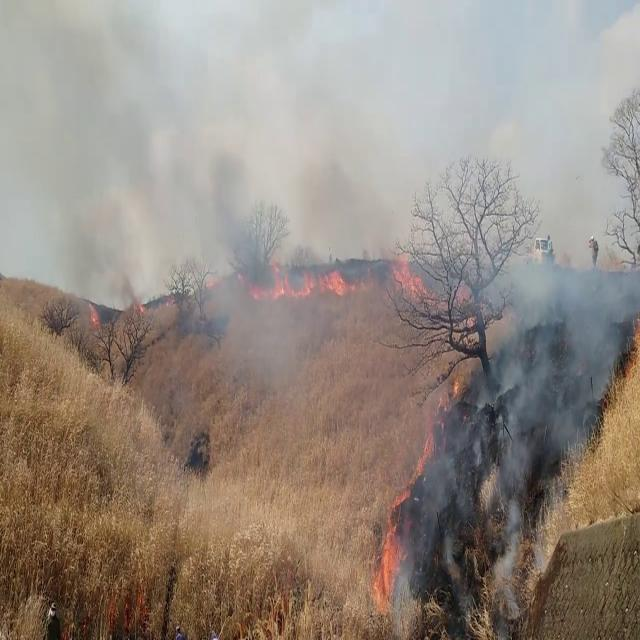Fire: (249, 256, 352, 307), (369, 509, 406, 616), (389, 249, 432, 303)
Smoke: (4, 1, 279, 346), (459, 154, 636, 617)
